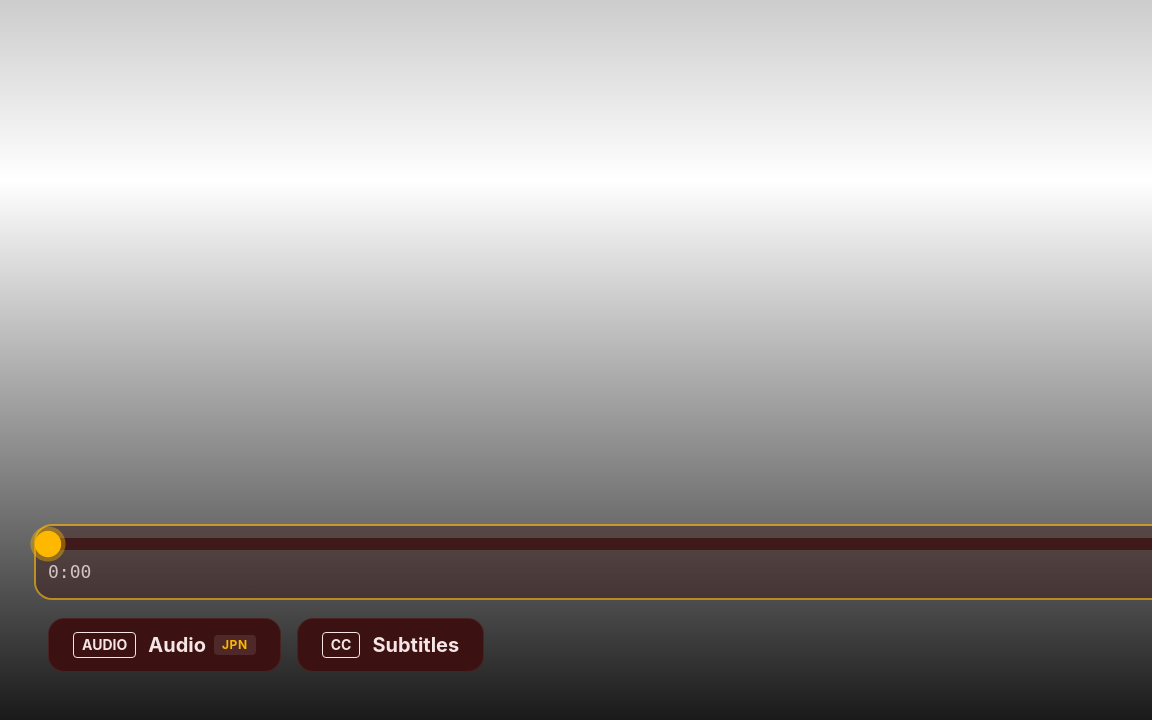
PlayerScreen multi-audio discovery, switching & preference persistence › switches audio track in-place via avplay.setSelectTrack without restarting Direct Play MP4 and persists language preference
The image size is (1152, 720).
(page scrolled)
// Open AudioTrackModal and select Track 1 (English AC3)
Click the button with test id "audio-button" at point(164, 645), box [48,618,281,672]
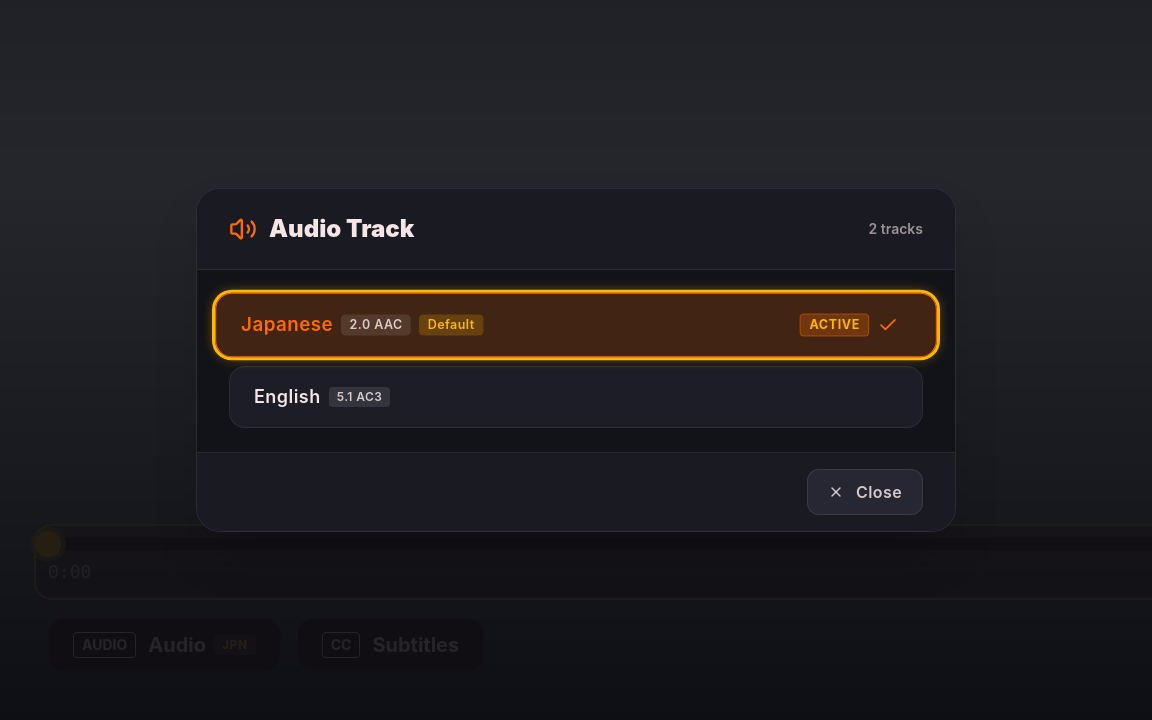
Check: the dialog with test id "audio-track-modal" is shown
Click the button with test id "audio-track-btn-1" at point(287, 396), box [229,366,923,428]
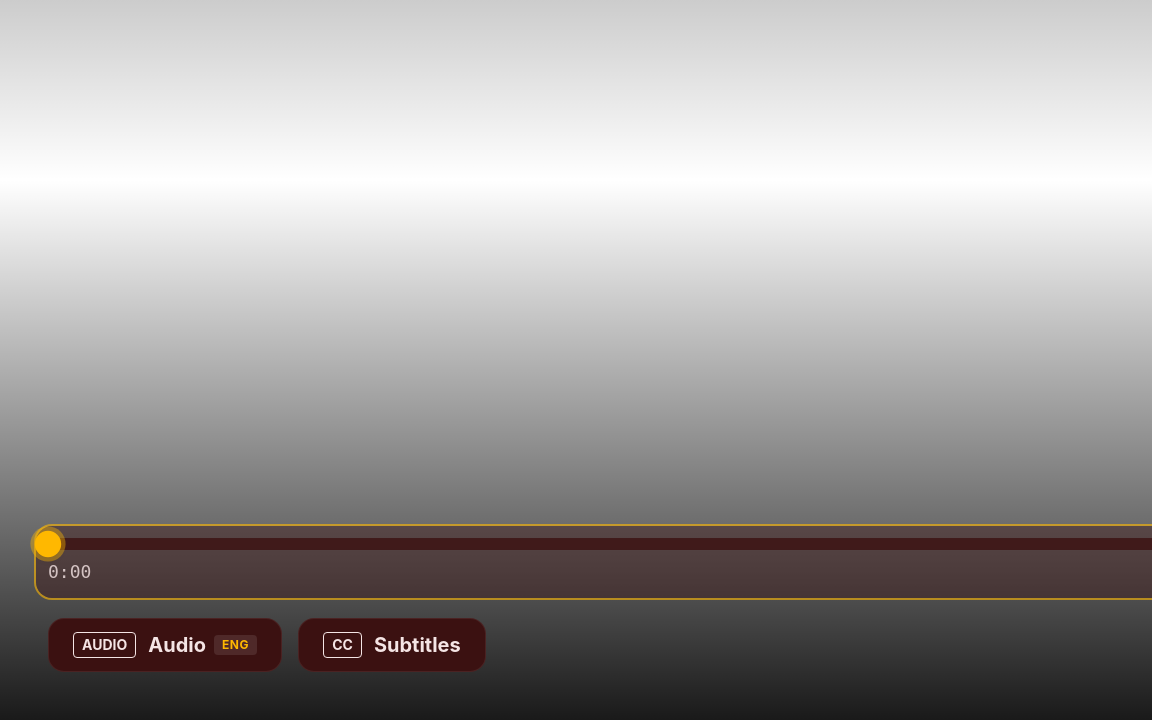
Check: the dialog with test id "audio-track-modal" is gone
